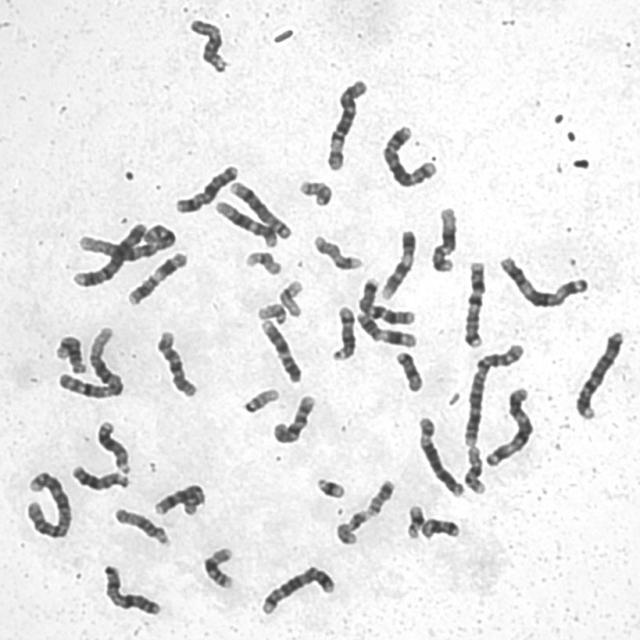A1: (52, 324, 128, 401), (74, 219, 178, 262)
A2: (459, 339, 526, 448), (20, 465, 74, 540)
A3: (494, 252, 590, 310), (482, 382, 536, 468)
B4: (70, 217, 150, 289), (570, 326, 626, 421)
B5: (256, 562, 338, 616), (378, 121, 439, 189)
C10: (152, 325, 200, 400), (269, 390, 318, 445)
C11: (122, 246, 190, 307), (352, 307, 419, 349)
C12: (211, 196, 280, 248), (426, 202, 459, 274)
C6: (322, 74, 371, 172), (414, 411, 466, 499)
C7: (353, 274, 418, 326), (459, 256, 488, 350)
C8: (225, 177, 294, 241), (149, 478, 208, 518)
C9: (256, 315, 303, 385), (376, 225, 418, 301)
D13: (91, 416, 133, 475), (66, 460, 132, 493)
D14: (51, 330, 89, 376), (328, 301, 357, 361)
D15: (109, 502, 172, 548), (185, 13, 229, 75)
E16: (198, 542, 237, 590), (460, 443, 488, 496)
E17: (309, 230, 364, 272), (332, 505, 371, 546)
E18: (392, 348, 425, 393), (417, 514, 462, 540)
F19: (274, 275, 306, 318), (240, 247, 284, 277)
F20: (363, 476, 397, 516), (294, 175, 334, 208)
G21: (312, 474, 348, 501), (402, 500, 426, 540)
G22: (238, 384, 282, 415), (254, 298, 288, 325)
X: (171, 160, 241, 215), (98, 560, 163, 618)
